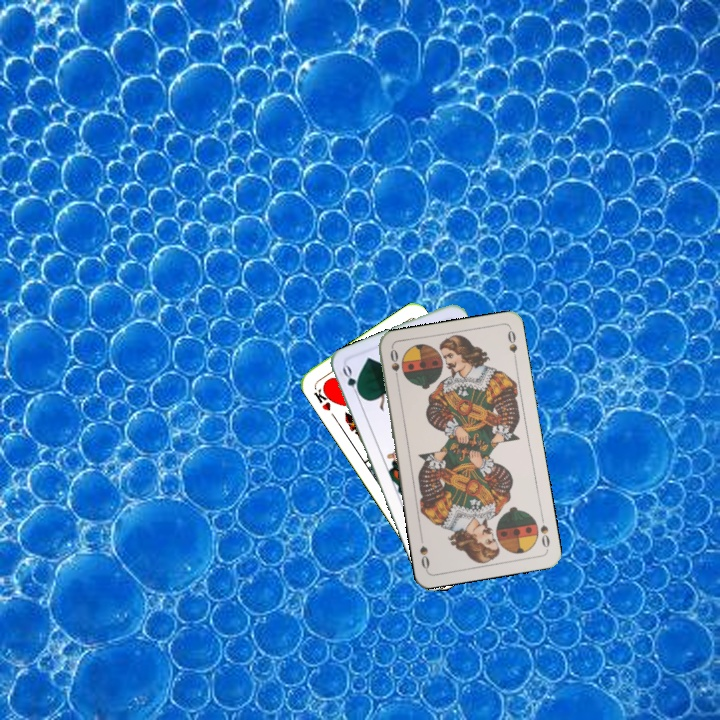GO: (338, 362, 365, 401)
HK: (310, 382, 337, 413)
SO: (386, 345, 402, 386), (536, 511, 552, 552)
